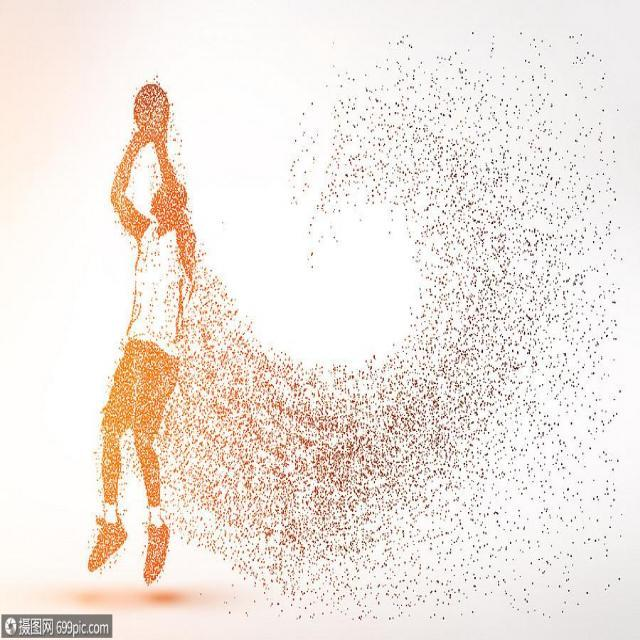rim: (132, 84, 172, 138)
